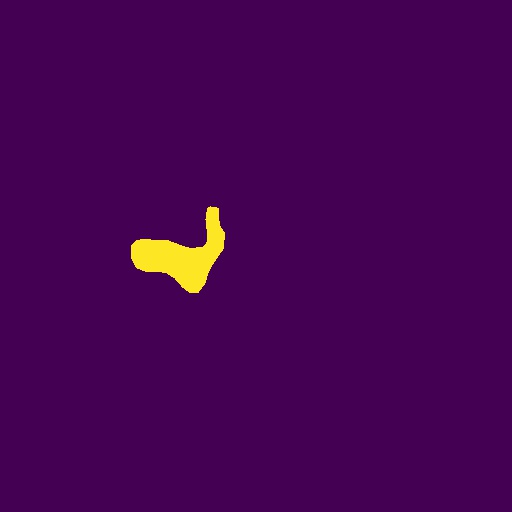Gliomia_tumour: (131, 206, 225, 293)
